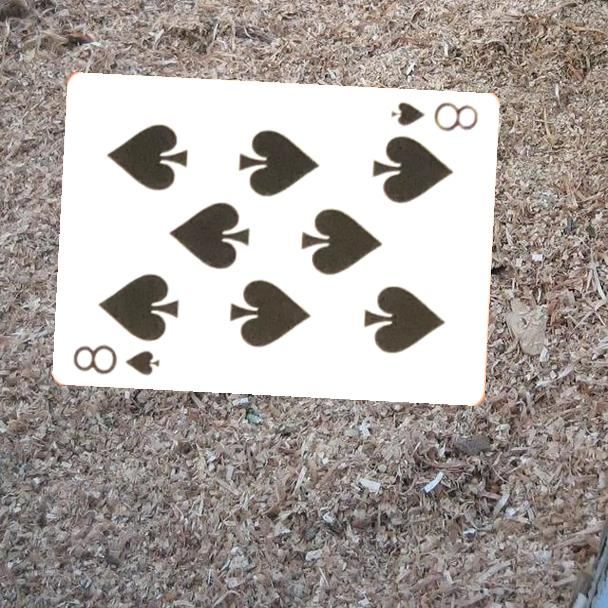s08: (70, 340, 163, 378), (388, 98, 482, 134)
